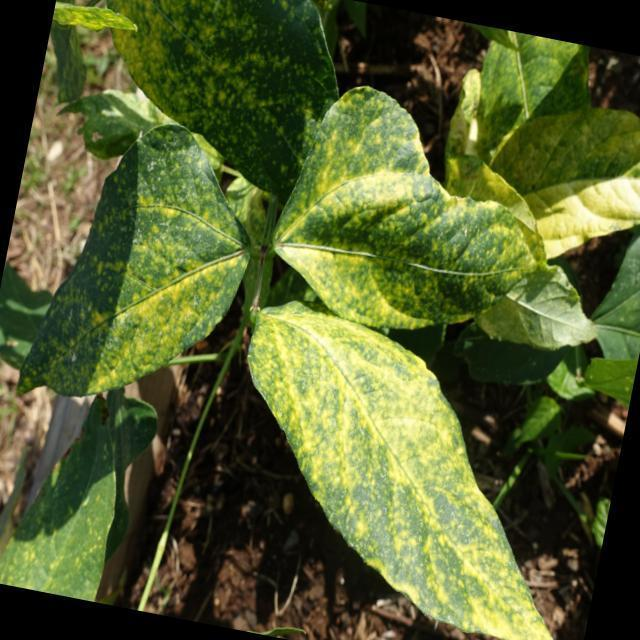Mosaic Virus: (223, 295, 608, 640), (12, 109, 260, 418), (270, 84, 562, 342), (72, 0, 364, 176)
